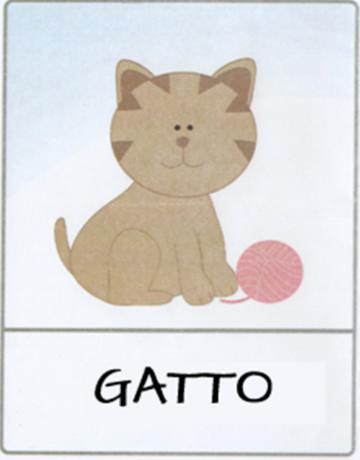gatto: (1, 1, 360, 460)
